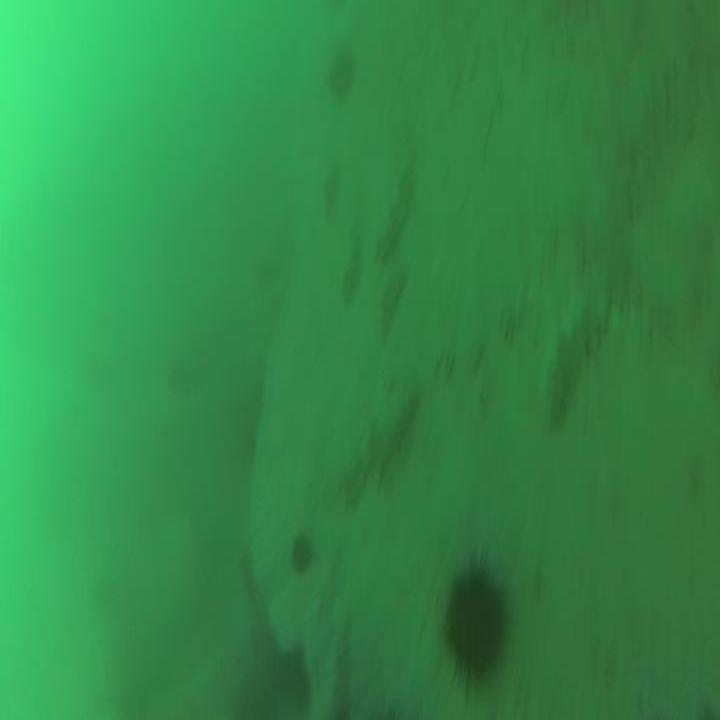echinus: (442, 562, 504, 675), (327, 44, 357, 94), (290, 538, 309, 572)
holothurian: (540, 300, 606, 425), (374, 155, 415, 263), (322, 631, 351, 717), (341, 229, 361, 306), (323, 174, 337, 219)
